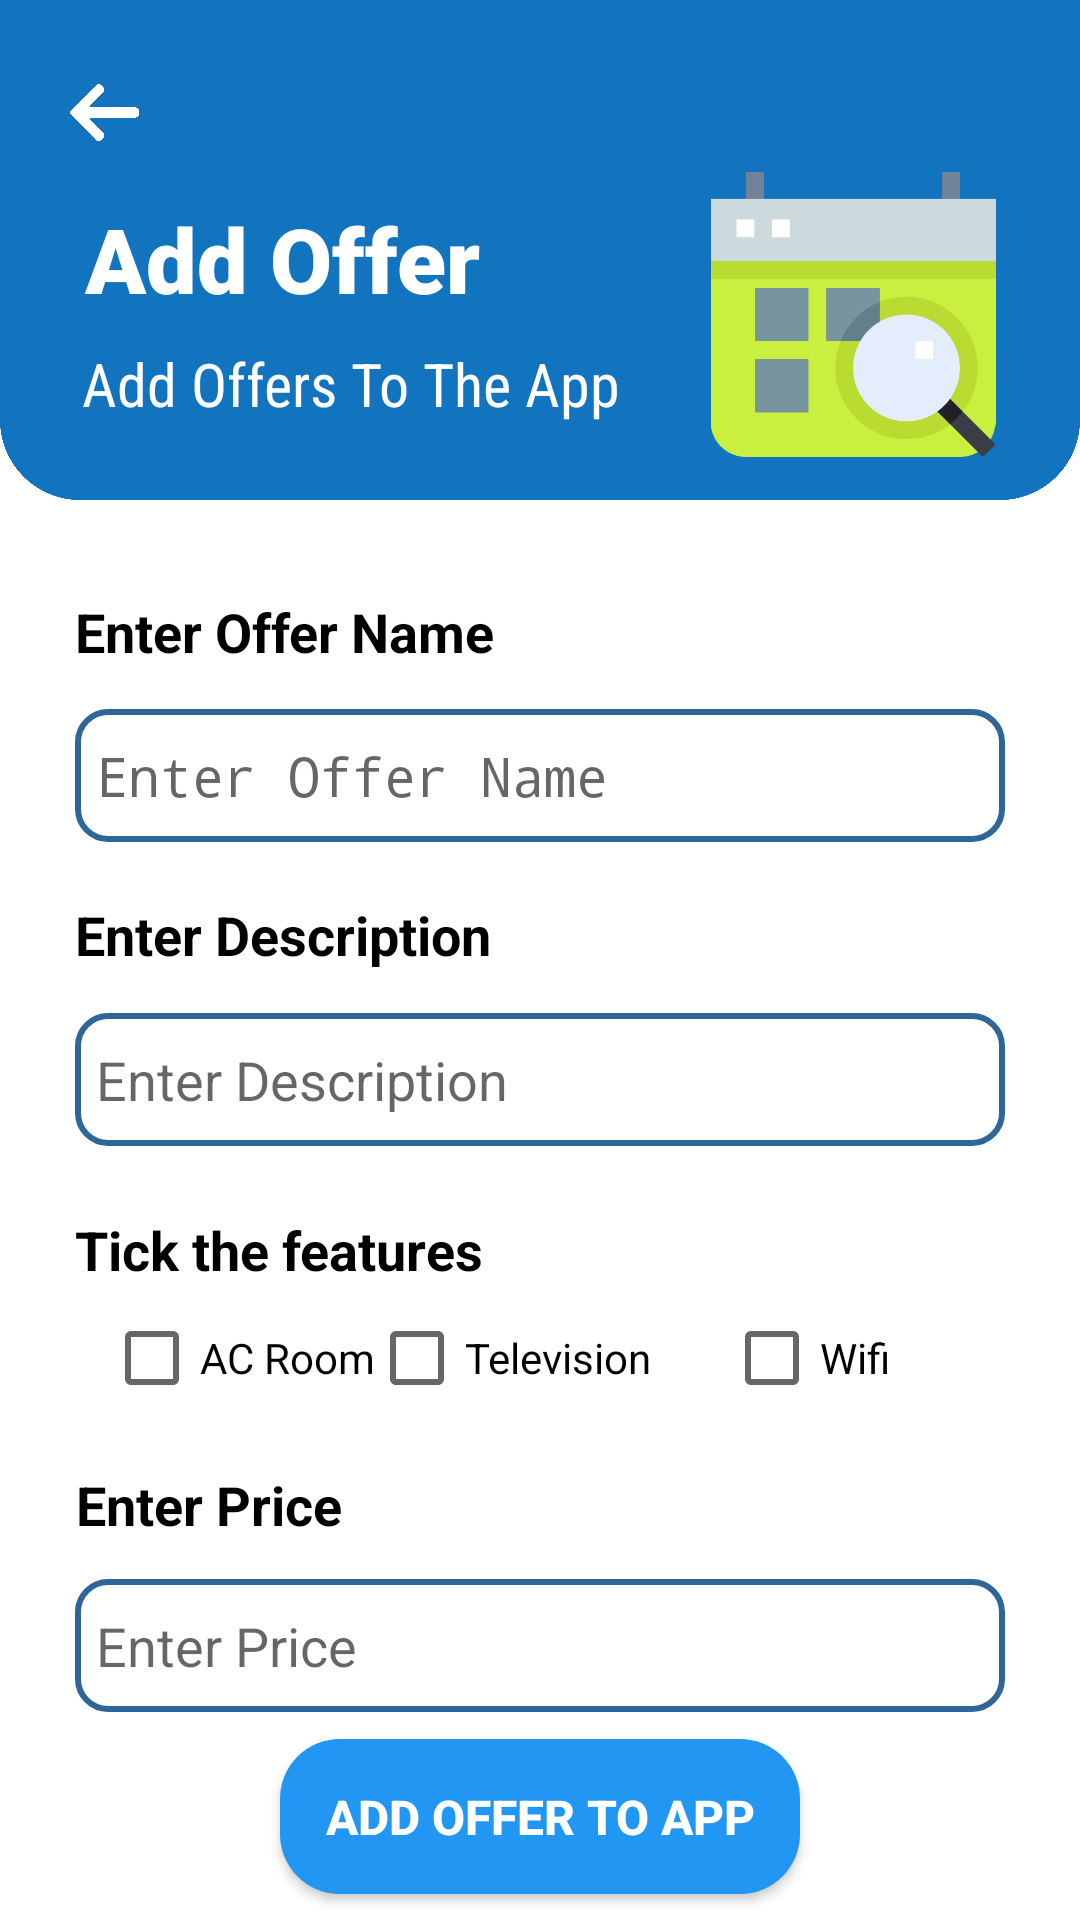

Where icons sit on this 1080x1920 app screen, as (x1, y1, x2, y2):
back: (70, 84, 139, 141)
booking: (711, 172, 996, 457)
